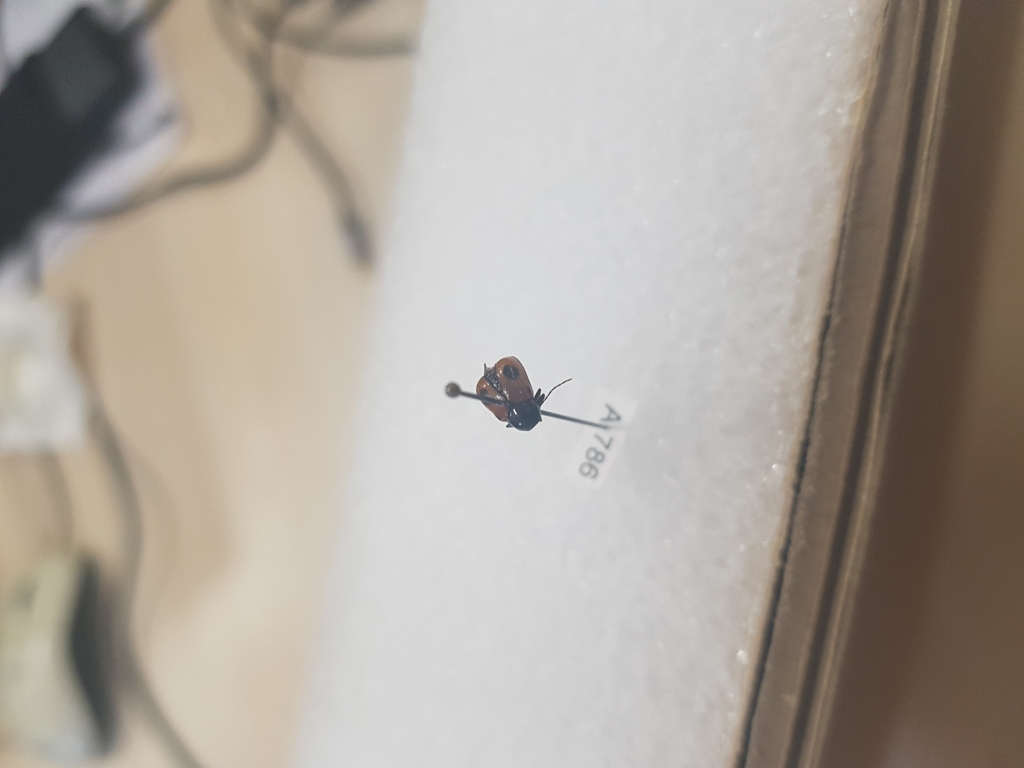Cryptocephalus_bipunctatus: (465, 345, 548, 436)
